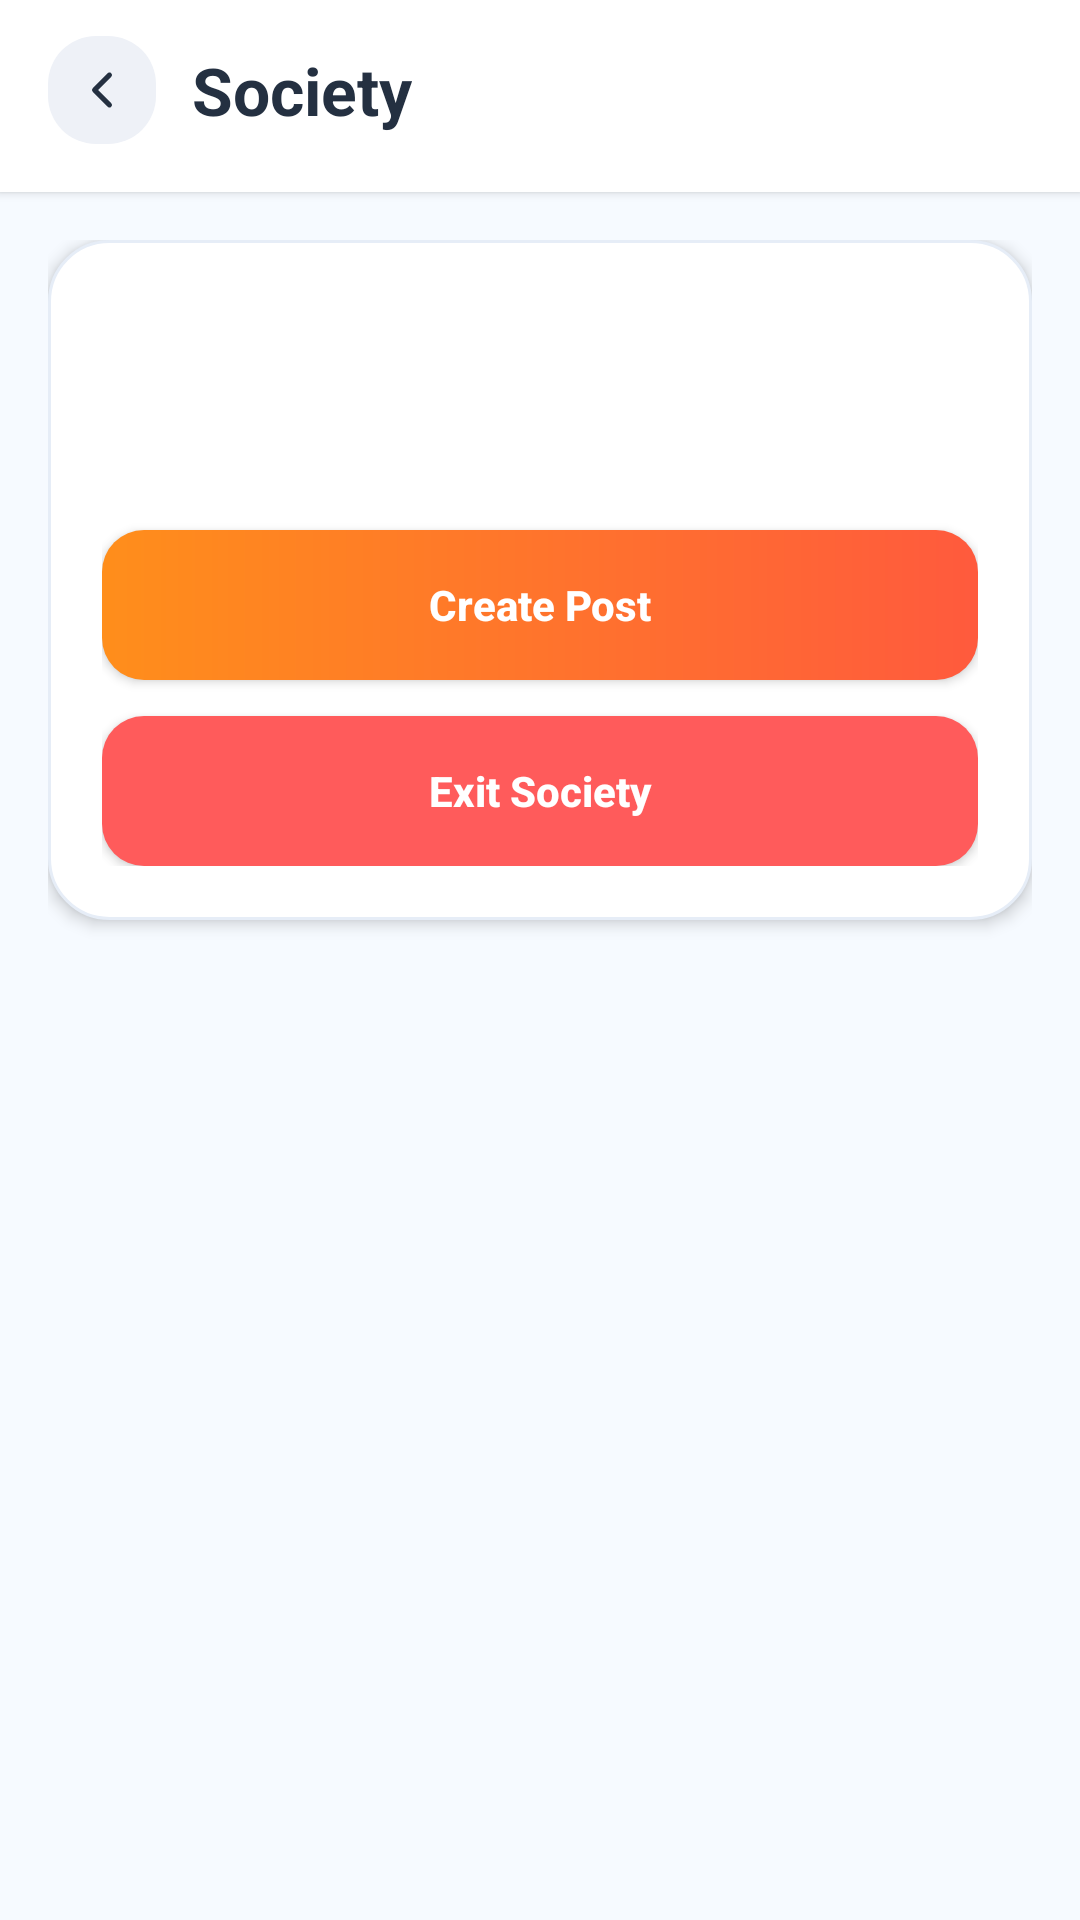

Where to tap for icons on this 1080x1920 app screen, as point (x, y):
back: point (102, 90)
